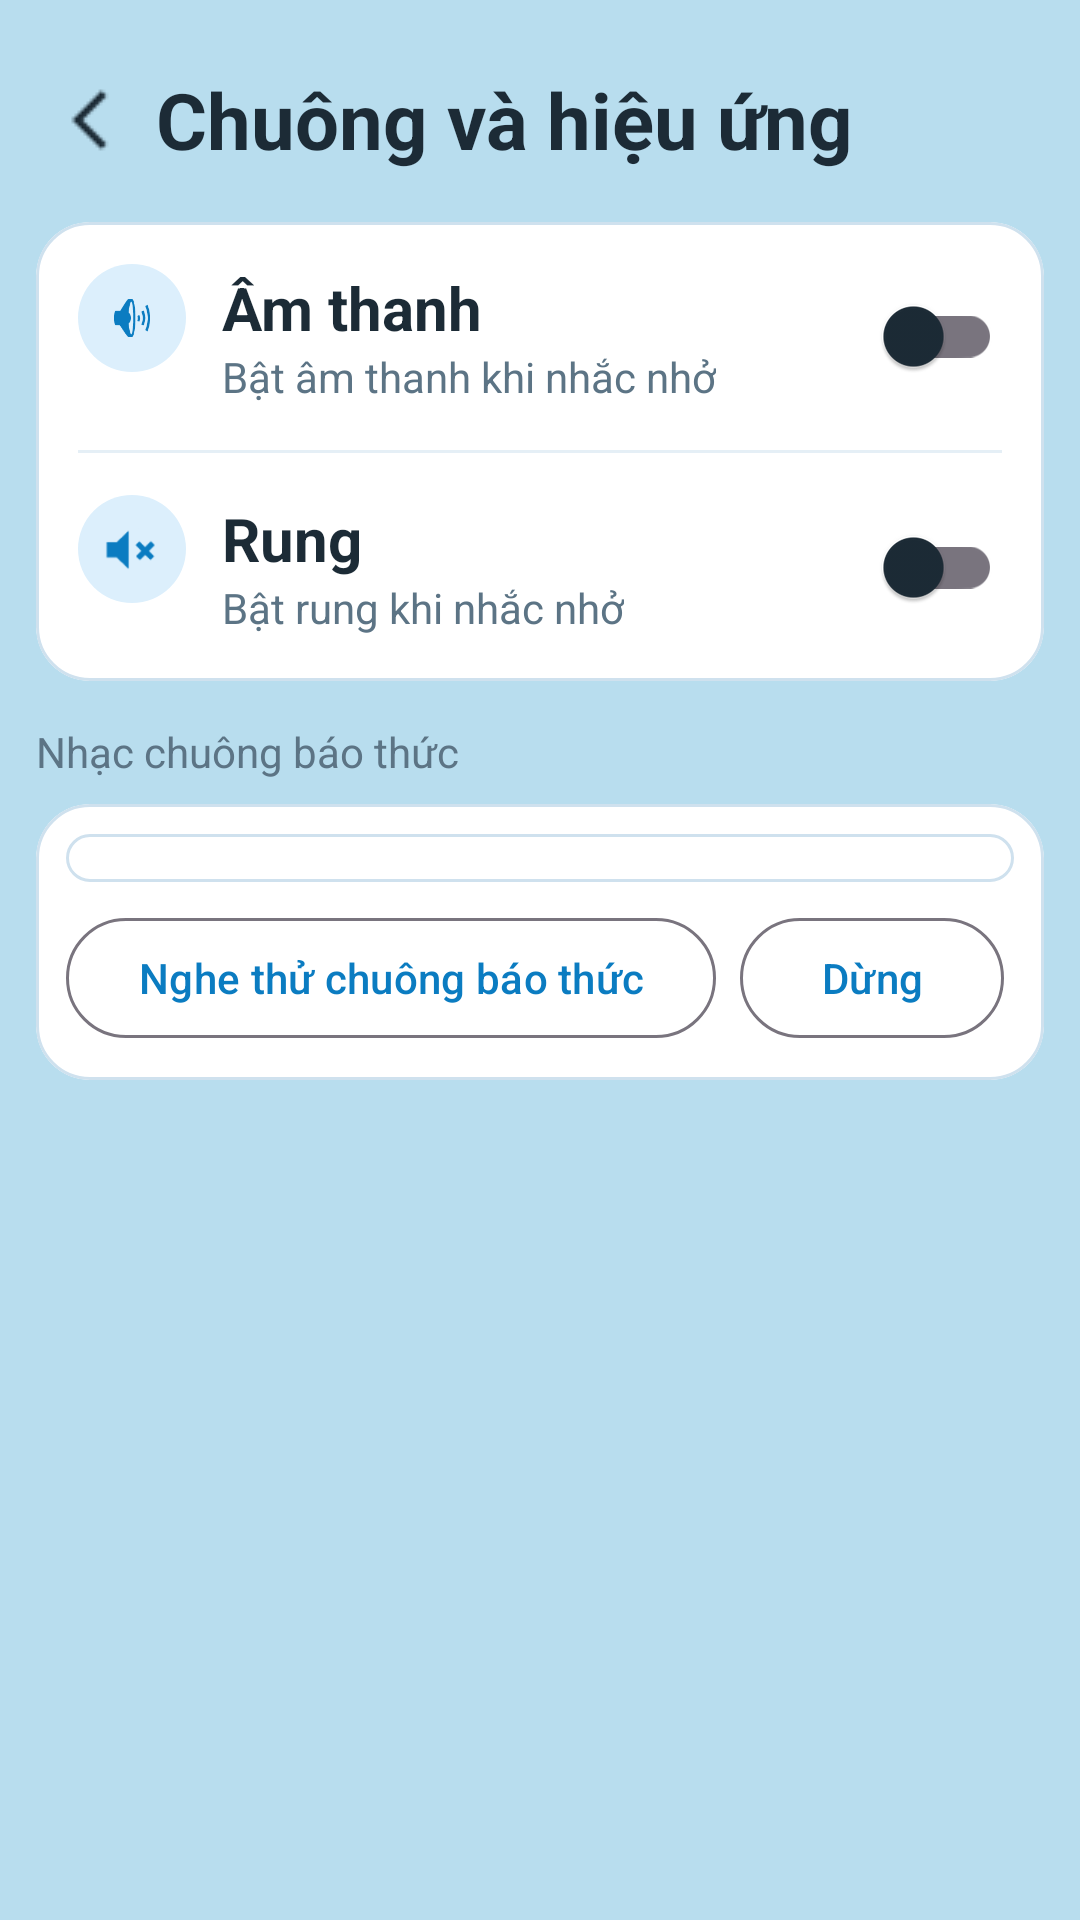

Locate icon controls on the screen. Image size 1080 × 1920, boxes as bbox(x1, y1, x2, y2).
lock silent mode: bbox(78, 495, 186, 603)
lock silent mode off: bbox(78, 264, 186, 372)
Đóng: bbox(72, 90, 106, 150)
